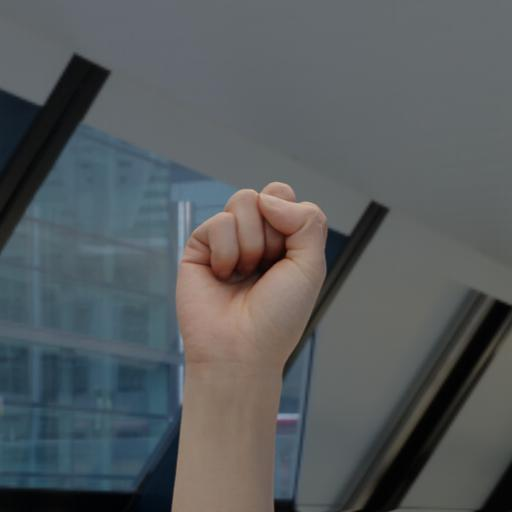S: (158, 178, 344, 389)
